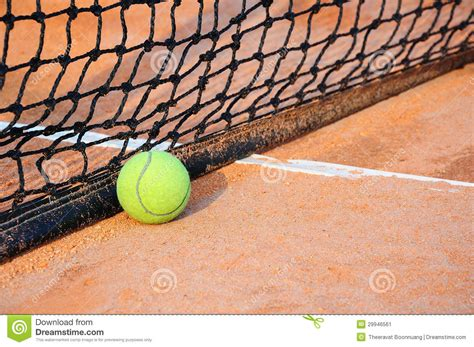tennis_ball: (115, 150, 192, 225)
